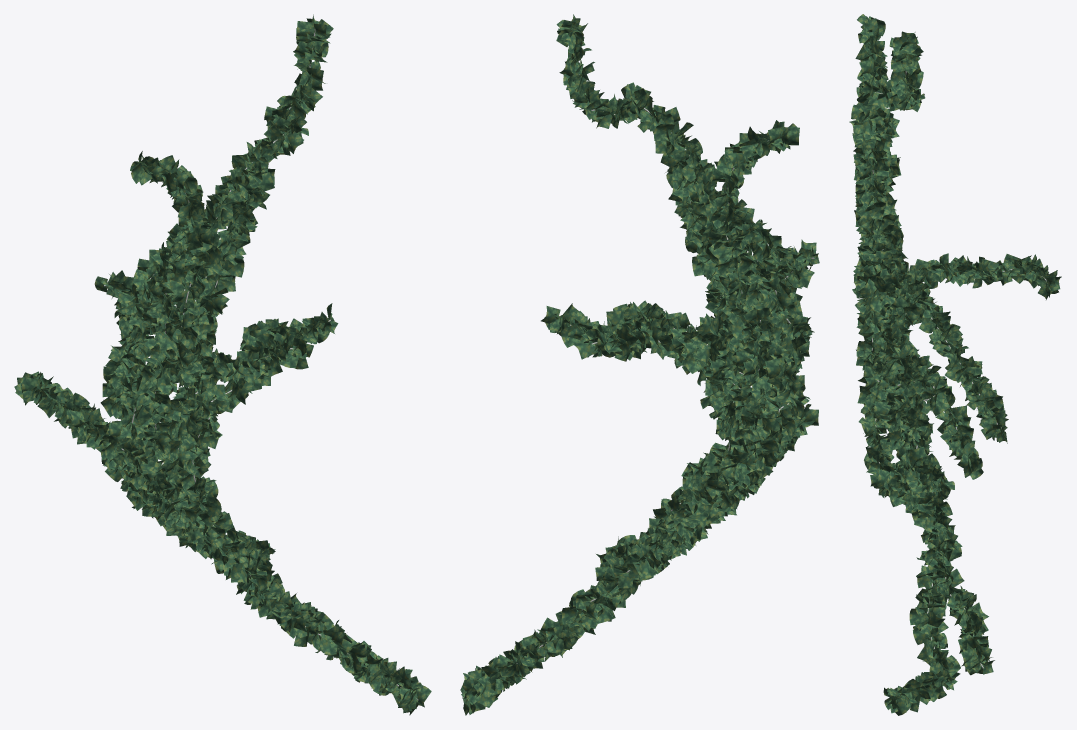
File: SM_Ivy_02.fbx
3 views of the same model, side by side, from view 1: azimuth 30°, elevation 25°; view 2: azimuth 150°, elevation 25°; view 3: azimuth 270°, elevation 25° (orthographic). The views are drawn at different scales.
Parts seen in each view (by area): view 1: SM_Ivy_02_LOD0; view 2: SM_Ivy_02_LOD0; view 3: SM_Ivy_02_LOD0.
Part boxes in pixels (x1,y1,x2,y2): SM_Ivy_02_LOD0: (14,14,431,715); SM_Ivy_02_LOD0: (460,14,819,715); SM_Ivy_02_LOD0: (849,14,1061,715).
Bounding box in the file's own units: 580 × 352 × 1170.
2 materials, 1 textured.
